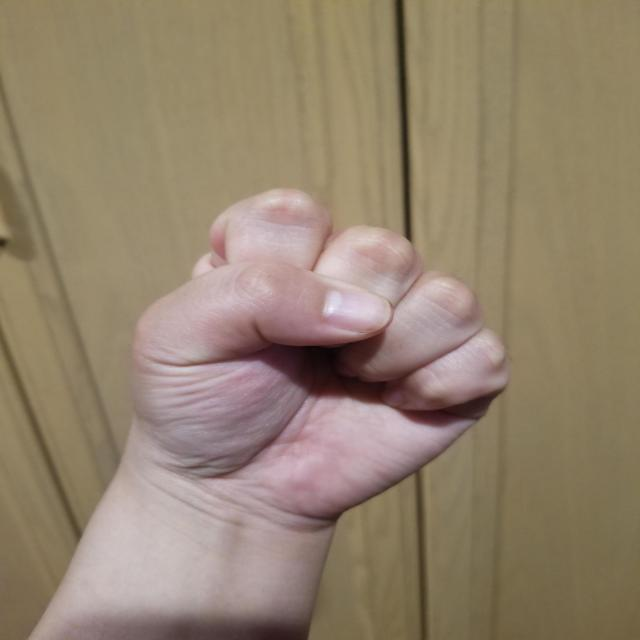S: (109, 183, 523, 522)
